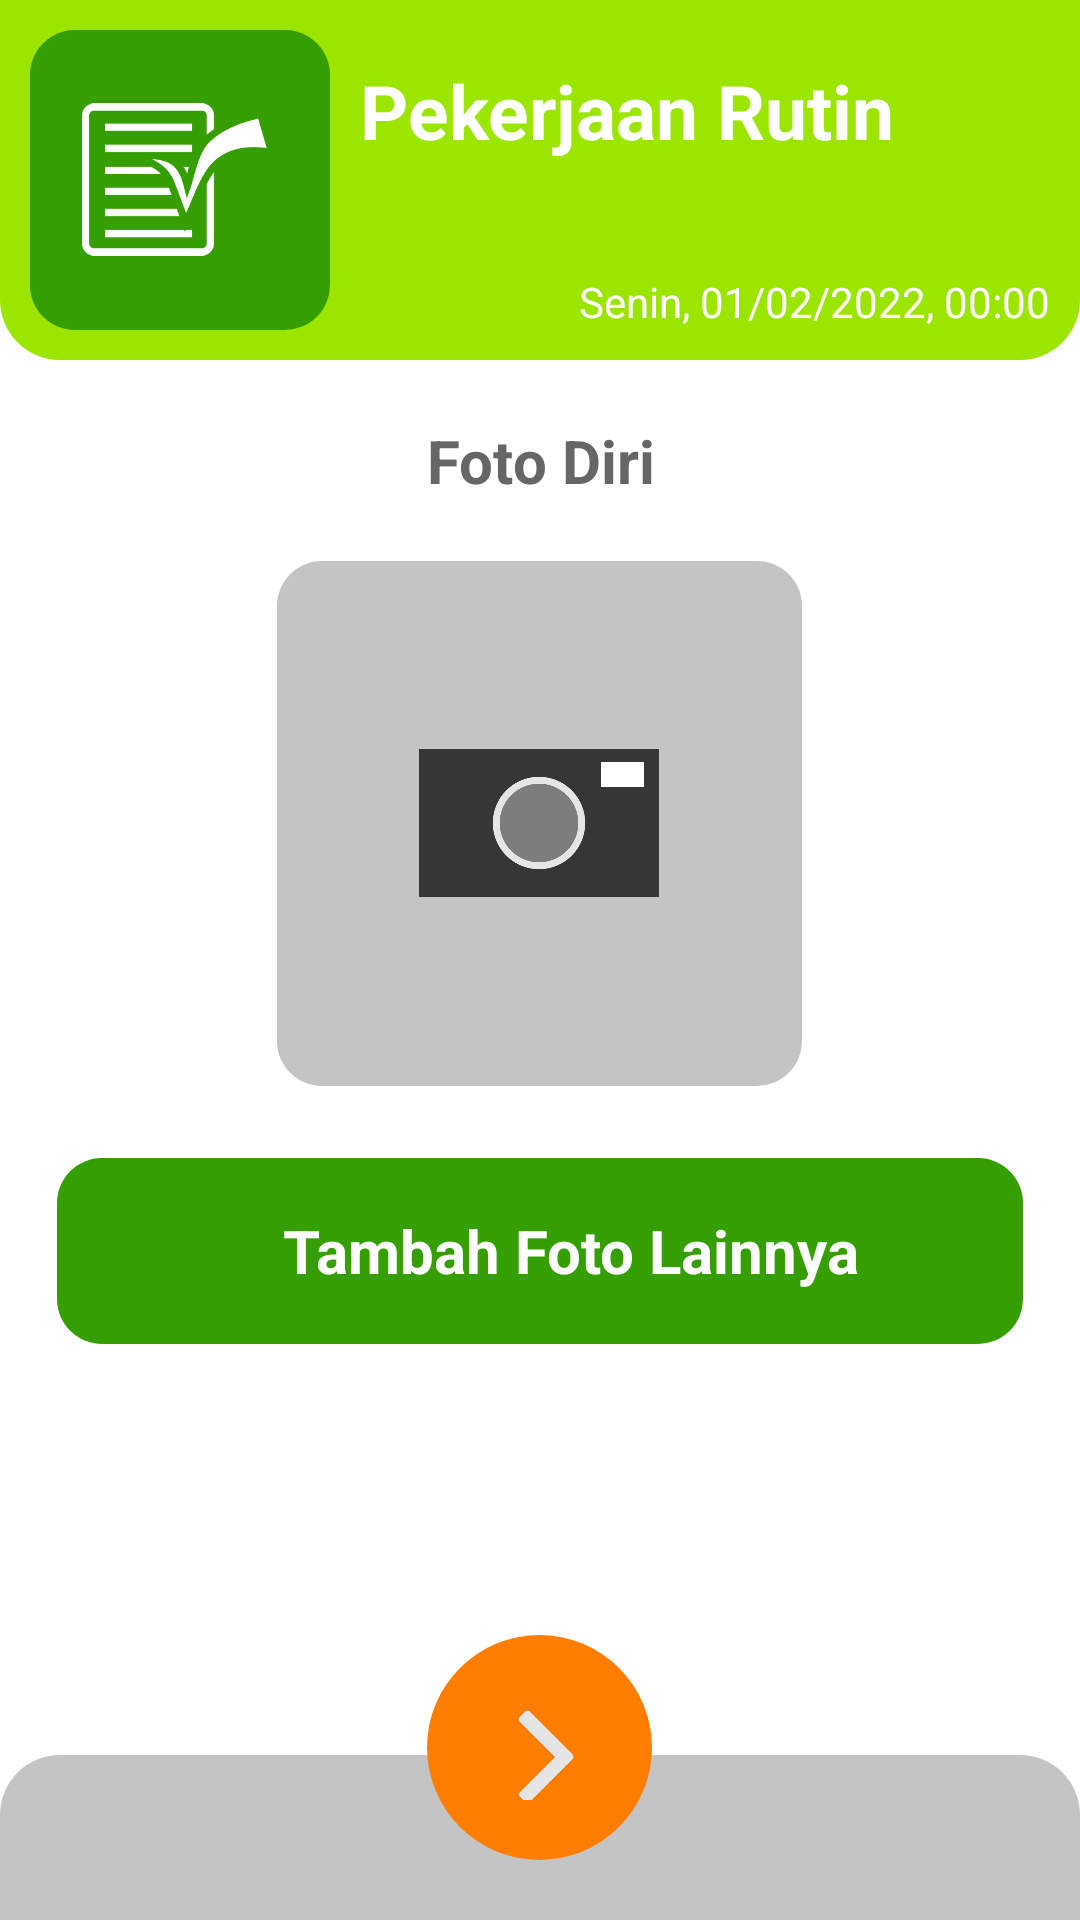

Icon click points for this 1080*1920 phone screenshot, format (x=x, y=y):
camera: (x=539, y=823)
